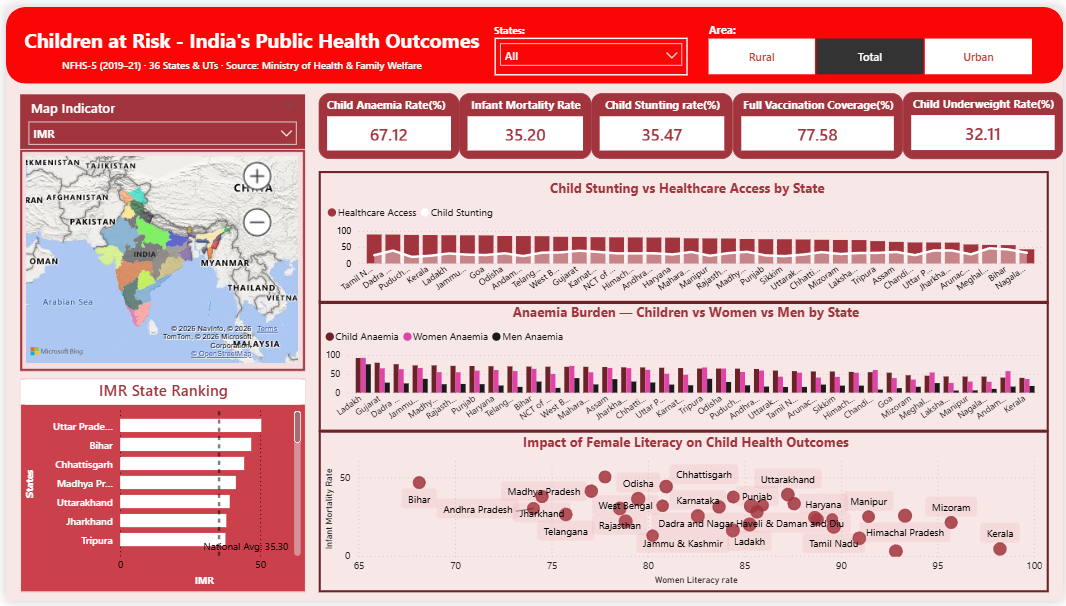

Layout of this report page (visuals, bound fields, positions):
{"tool":"powerbi","page":{"name":"Mortality overview","canvas":[1280,720],"ordinal":0},"visuals":[{"type":"shape","box":[0,0,1280,92.9],"z":1500},{"type":"textbox","box":[27.3,18.7,564,46.7],"z":2000},{"type":"textbox","box":[62.7,55.3,447.3,37.3],"z":2001},{"type":"slicer","fields":{"Values":["nfhs_state.area"]},"box":[824.7,31.1,441.6,57.4],"z":2002},{"type":"slicer","fields":{"Values":["nfhs_state.state"]},"box":[591.5,36.7,233.7,45.6],"z":2003},{"type":"textbox","box":[585.7,12.9,62.1,33.6],"z":2004},{"type":"textbox","box":[845.7,12.9,63.6,29.3],"z":2005},{"type":"cardVisual","fields":{"Data":["nfhs_state.National_Anaemia"]},"box":[0,187,203,150],"z":2006},{"type":"cardVisual","fields":{"Data":["nfhs_state.National_IMR"]},"box":[207,187,203,150],"z":2007},{"type":"cardVisual","fields":{"Data":["nfhs_state.National_Stunting"]},"box":[414,187,203,150],"z":2008},{"type":"cardVisual","fields":{"Data":["nfhs_state.National_Vaccination"]},"box":[0,347,203,150],"z":2009},{"type":"cardVisual","fields":{"Data":["nfhs_state.Urban_Rural_Diabetes_Gap"]},"box":[211,347,299,150],"z":2010}]}

Visuals, with their boxes in screenshot pixels (x1, y1, x2, y2), scaled from the page's 1280x720 canvas onto the 1066x606 screenshot:
shape: Rect(0, 0, 1065, 78)
textbox: Rect(23, 16, 492, 55)
textbox: Rect(52, 47, 425, 78)
slicer - nfhs_state.area: Rect(687, 26, 1055, 74)
slicer - nfhs_state.state: Rect(493, 31, 687, 69)
textbox: Rect(488, 11, 539, 39)
textbox: Rect(704, 11, 757, 36)
cardVisual - nfhs_state.National_Anaemia: Rect(0, 157, 169, 284)
cardVisual - nfhs_state.National_IMR: Rect(172, 157, 341, 284)
cardVisual - nfhs_state.National_Stunting: Rect(345, 157, 514, 284)
cardVisual - nfhs_state.National_Vaccination: Rect(0, 292, 169, 418)
cardVisual - nfhs_state.Urban_Rural_Diabetes_Gap: Rect(176, 292, 425, 418)
